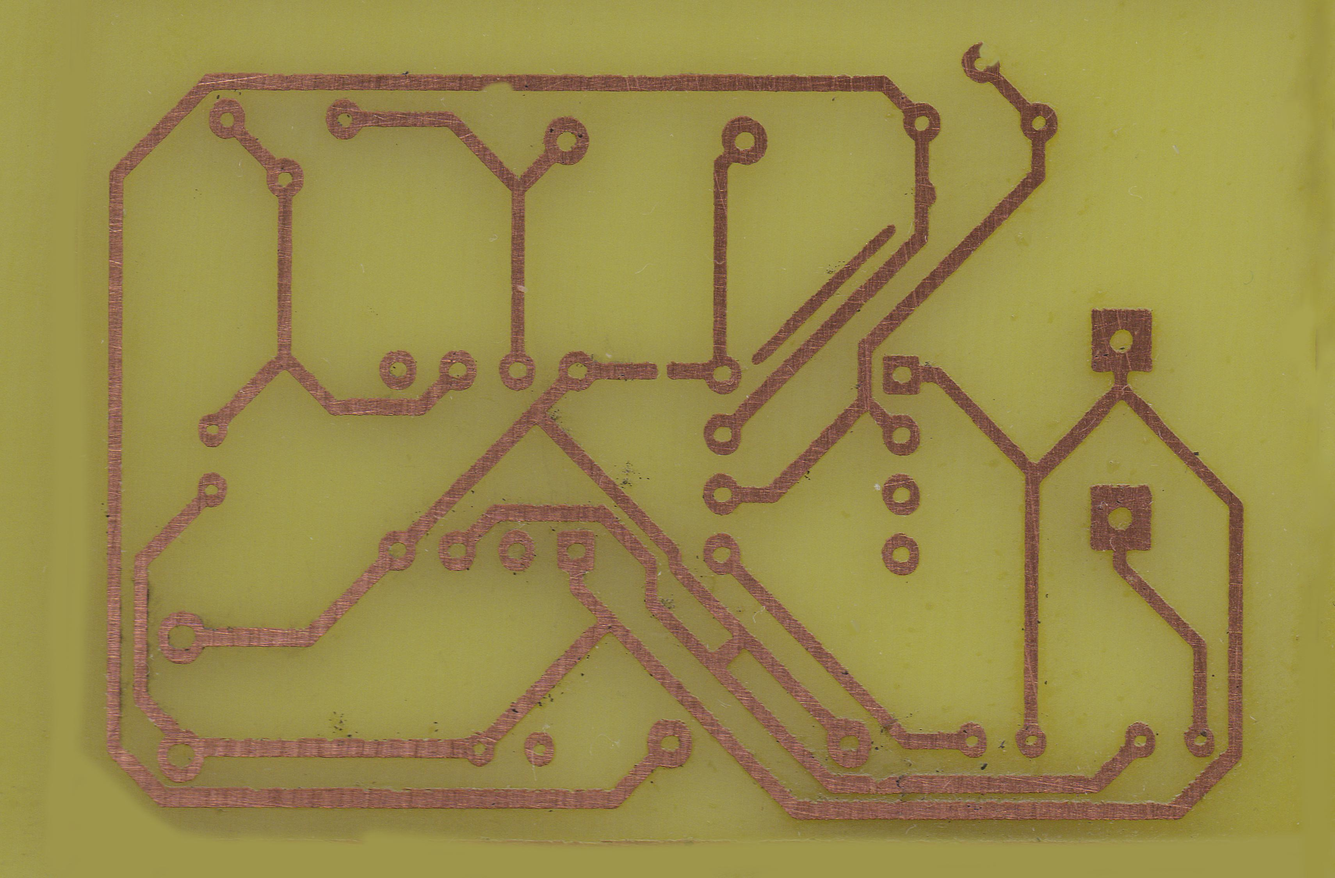missing_hole: (961, 41, 1001, 84)
mouse_bite: (479, 75, 516, 93), (869, 774, 891, 786)
open_circuit: (645, 362, 679, 380)
short: (707, 630, 752, 674)
spur: (915, 180, 938, 211)
spurious_copper: (750, 223, 899, 366)
